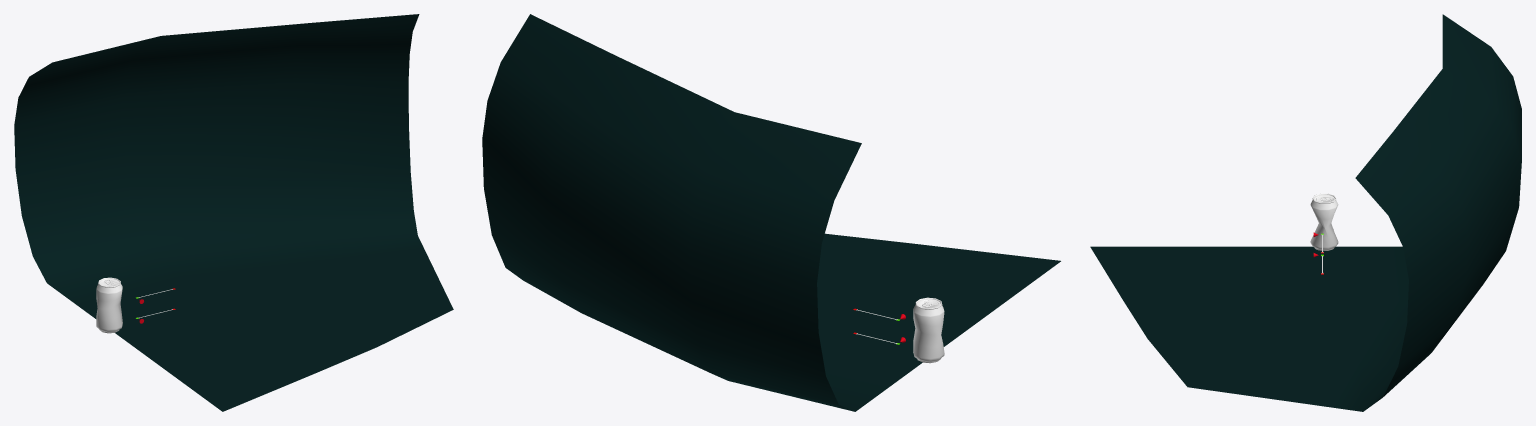
The model's file is Soda can.glb.
3 views of the same model, side by side, from view 1: azimuth 30°, elevation 25°; view 2: azimuth 150°, elevation 25°; view 3: azimuth 270°, elevation 25° (orthographic). The views are drawn at different scales.
Parts seen in each view (by area): view 1: Plane, Corpo; view 2: Plane, Corpo; view 3: Plane, Corpo.
Boxes of the visible parts, x1,y1,x2,y2 form: Plane: (14,14,453,411); Corpo: (96,283,122,332); Plane: (482,14,1060,411); Corpo: (913,304,944,361); Plane: (1090,14,1521,411); Corpo: (1310,198,1338,249).
Bounding box in the file's own units: 96.29 × 58.96 × 99.07.
